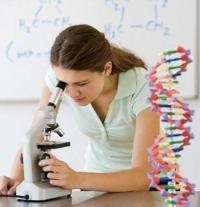person without safety: (6, 24, 160, 192)
